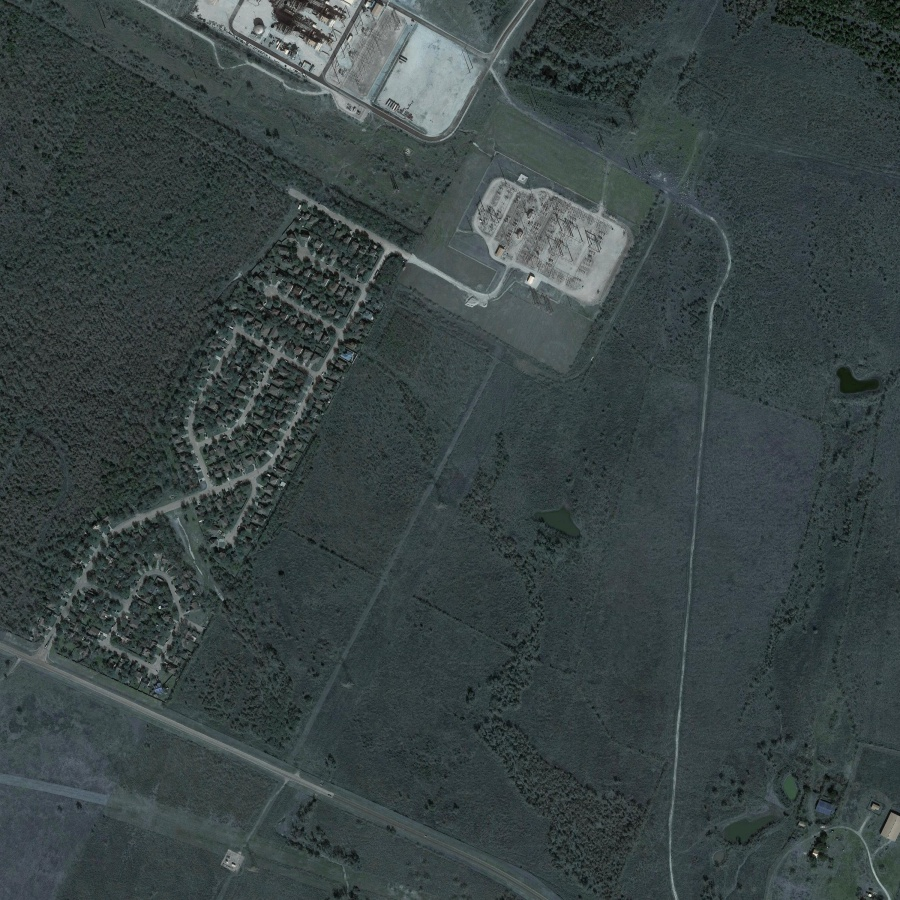PowerPlant: (470, 162, 616, 298)
